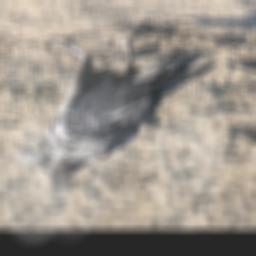Crow: (13, 25, 219, 181)
